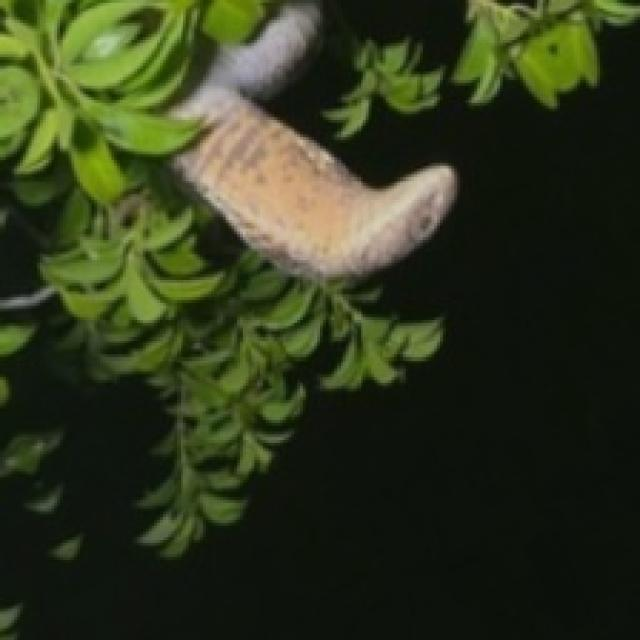king cobra: (171, 3, 454, 277)
